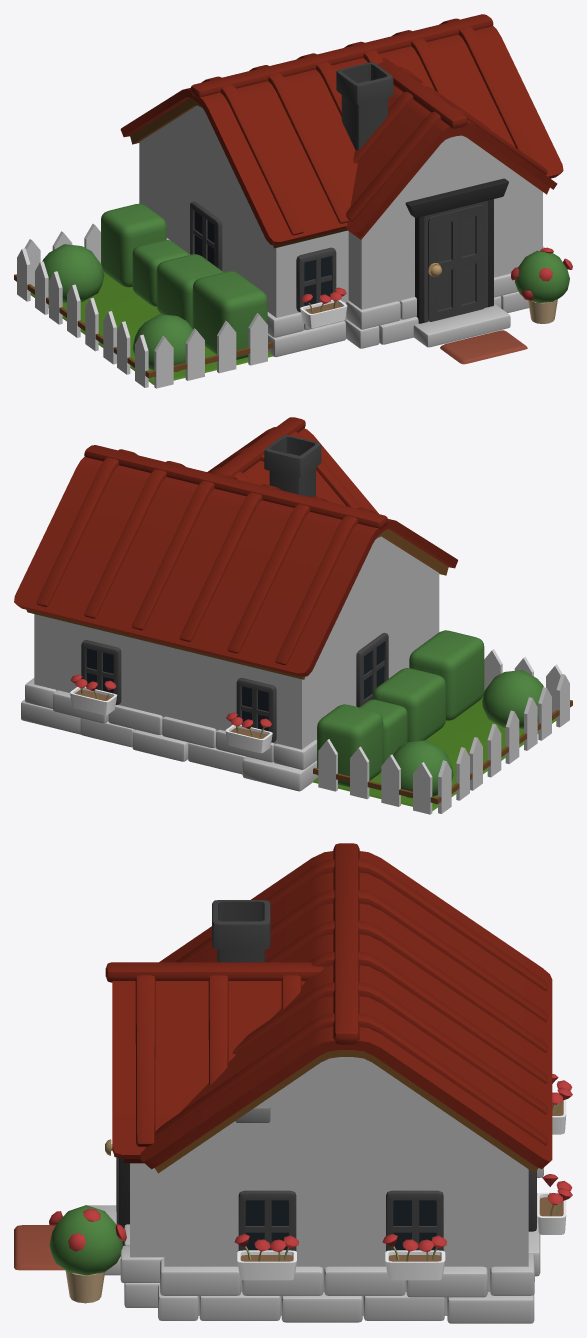
The model's file is SM_house_cute_05.fbx.
3 views of the same model, one above another, from view 1: azimuth 30°, elevation 25°; view 2: azimuth 150°, elevation 25°; view 3: azimuth 270°, elevation 25° (orthographic). The views are drawn at different scales.
Parts seen in each view (by area): view 1: Box316; view 2: Box316; view 3: Box316.
Part boxes in pixels (bbox=[...]): Box316: bbox=[14, 14, 572, 388]; Box316: bbox=[14, 417, 572, 814]; Box316: bbox=[14, 843, 572, 1323].
Size of the model in its own units: 332 by 176 by 285.
